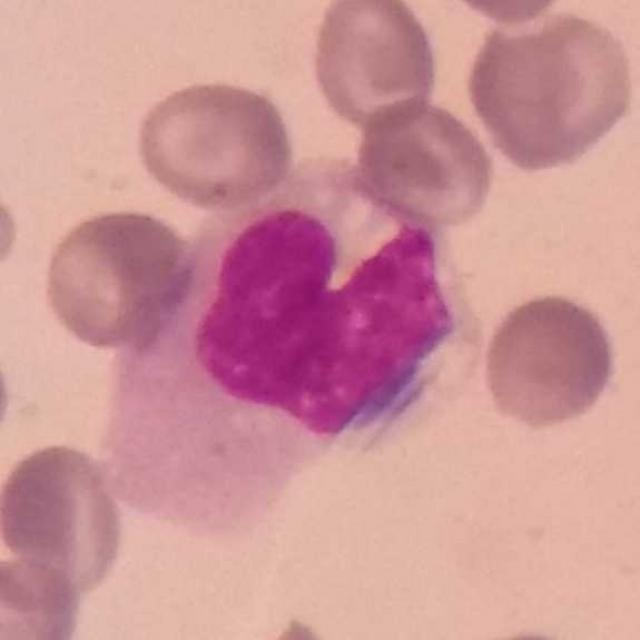mono: (99, 146, 468, 536)
